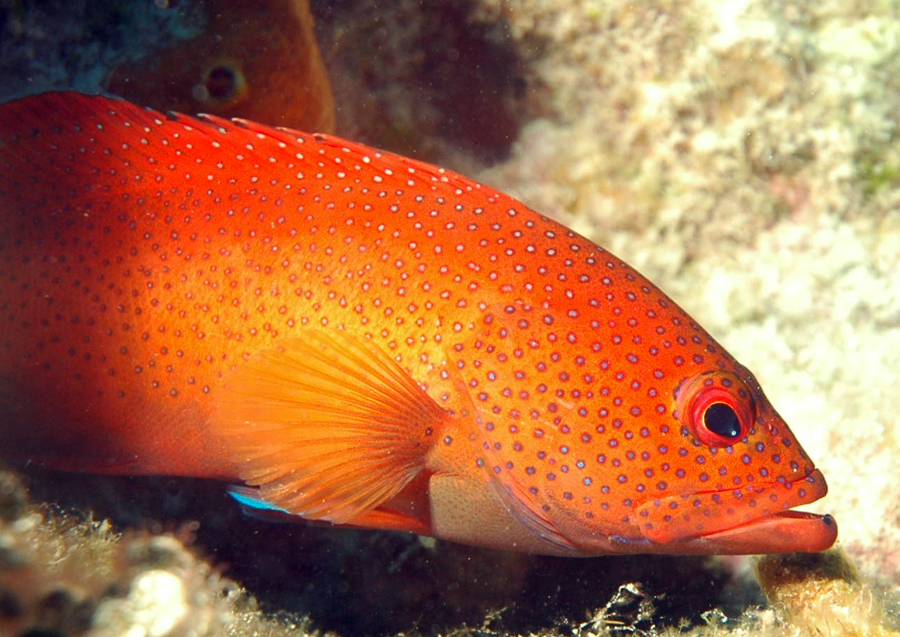Cephalopholis_fulvaw: (1, 82, 845, 568)
